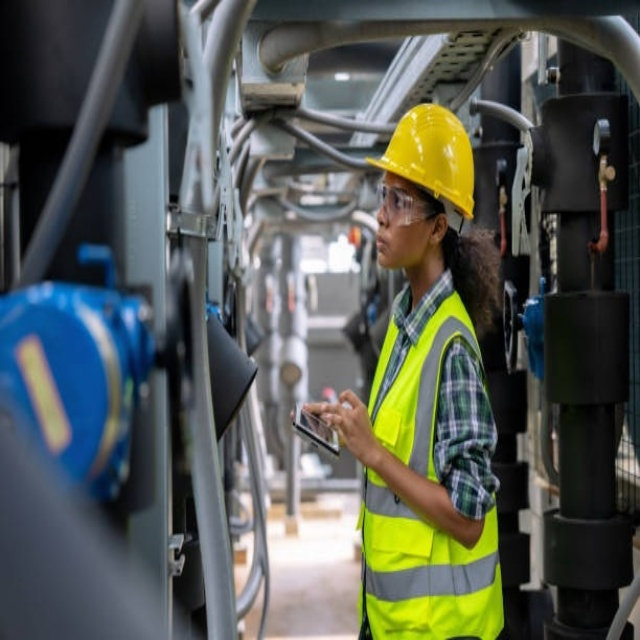Gafas: (376, 182, 442, 225)
Sin_guantes: (307, 388, 372, 459)
Sin_mascara: (371, 226, 398, 265)
